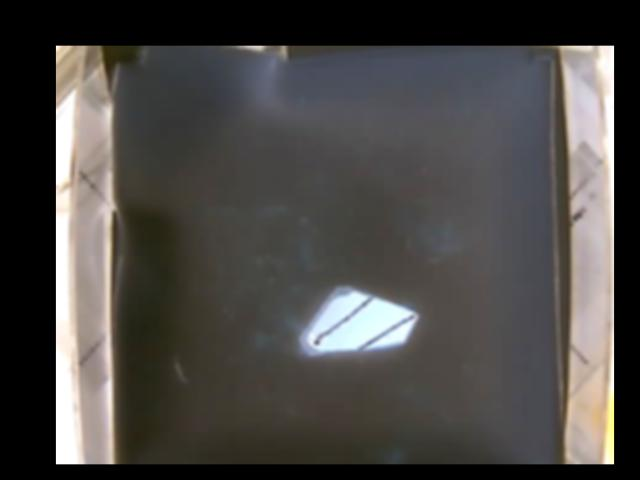China: (298, 283, 419, 357)
